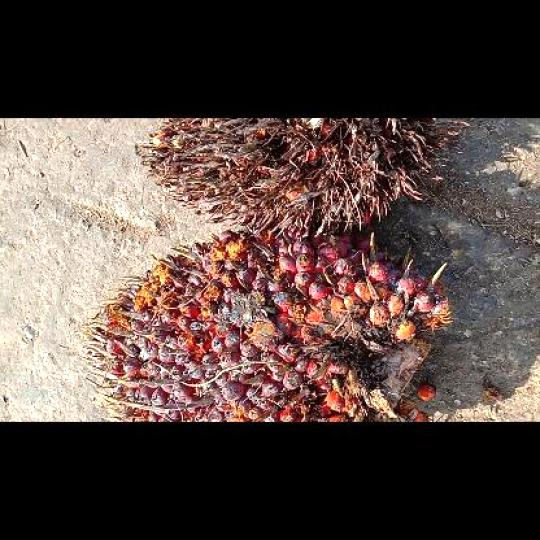masak: (76, 228, 451, 421)
terlalu masak: (139, 118, 456, 235)
